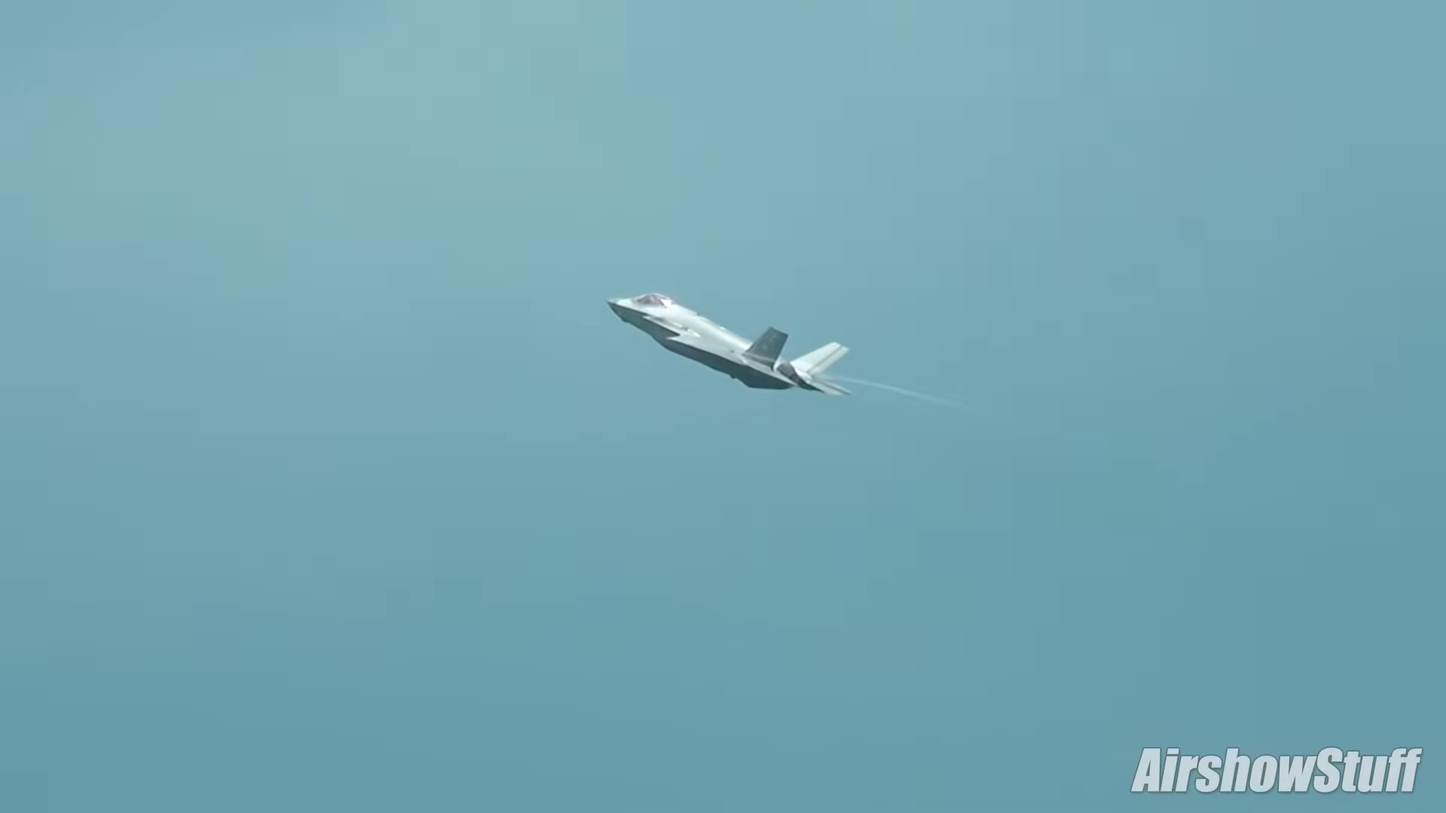F35: (603, 286, 856, 402)
